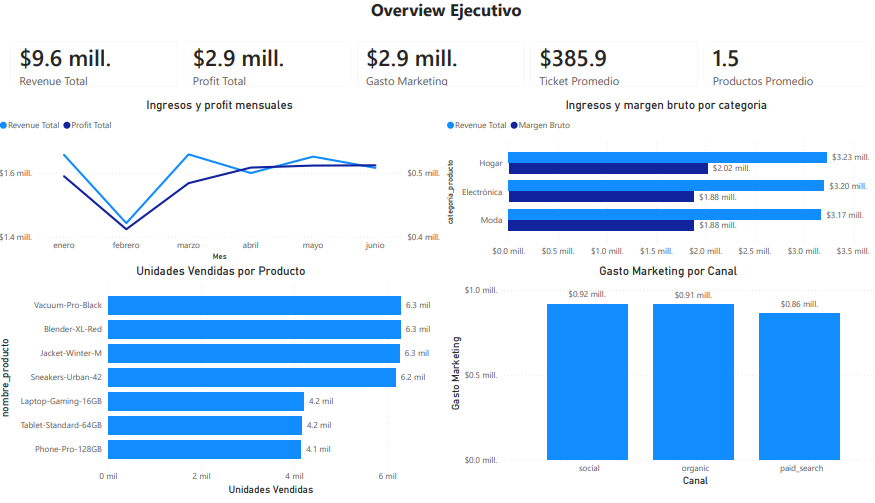

What the dashboard file says about the page in this screenshot:
{"tool":"powerbi","page":{"name":"Overview Ejecutivo","canvas":[1280,720],"ordinal":0},"visuals":[{"type":"textbox","box":[10.2,0,1270.2,49.8],"z":0},{"type":"cardVisual","fields":{"Data":["orders_clean.Revenue Total","marketing_clean.Profit Total","marketing_clean.Gasto Marketing","orders_clean.Ticket Promedio","orders_clean.Productos Promedio"]},"box":[4.4,49.8,1270.2,98],"z":1000},{"type":"lineChart","title":"Ingresos y profit mensuales","fields":{"Category":["DimFecha.Date.Variación.Jerarquía de fechas.Mes"],"Y":["orders_clean.Revenue Total"],"Y2":["marketing_clean.Profit Total"]},"box":[0,147.8,641,237.1],"z":2000},{"type":"clusteredBarChart","title":"Ingresos y margen bruto por categoria","fields":{"Category":["catalog_clean.categoria_producto"],"Y":["orders_clean.Revenue Total","orders_clean.Margen Bruto"]},"box":[639.5,147.8,641,237.1],"z":3000},{"type":"clusteredBarChart","title":"Unidades Vendidas por Producto","fields":{"Category":["orders_clean.nombre_producto"],"Y":["orders_clean.Unidades Vendidas"]},"box":[0,384.9,645.4,335.1],"z":4000},{"type":"columnChart","title":"Gasto Marketing por Canal","fields":{"Category":["marketing_clean.canal"],"Y":["marketing_clean.Gasto Marketing"]},"box":[645.4,384.9,635.1,323.4],"z":5000}]}

Visuals, with their boxes in screenshot pixels (x1, y1, x2, y2), scaled from the page's 1280x720 canvas onto the 875x503 screenshot:
textbox: <box>7,0,874,35</box>
cardVisual - orders_clean.Revenue Total x marketing_clean.Profit Total: <box>3,35,871,103</box>
"Ingresos y profit mensuales" lineChart: <box>0,103,438,269</box>
"Ingresos y margen bruto por categoria" clusteredBarChart: <box>437,103,874,269</box>
"Unidades Vendidas por Producto" clusteredBarChart: <box>0,269,441,502</box>
"Gasto Marketing por Canal" columnChart: <box>441,269,874,495</box>
